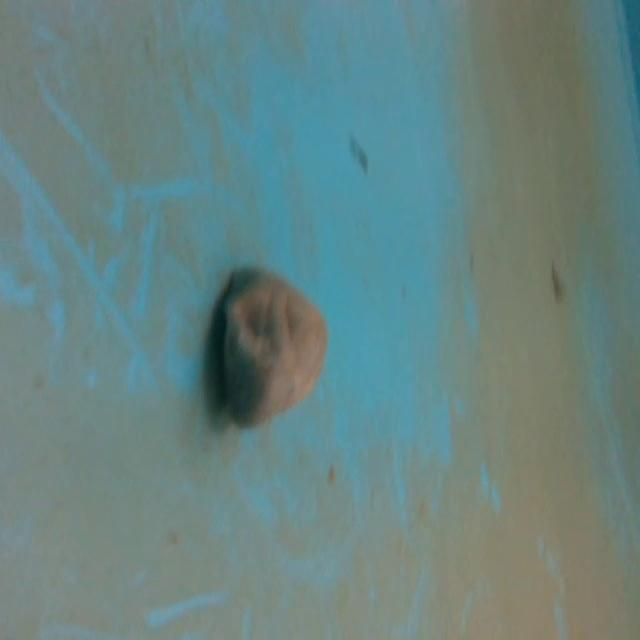rock: (207, 259, 336, 436)
